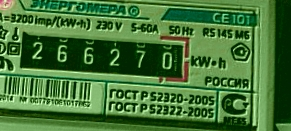0: (160, 50, 174, 71)
2: (29, 41, 46, 62), (107, 47, 122, 68)
6: (55, 43, 69, 65), (82, 46, 96, 67)
7: (133, 49, 146, 69)
screen: (10, 21, 198, 89)
